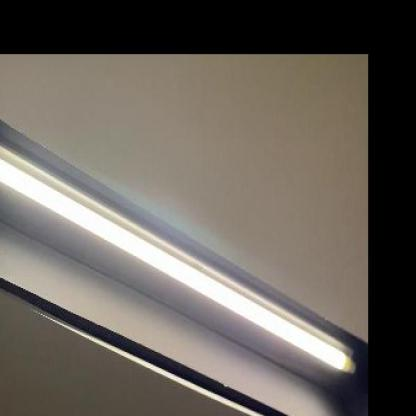light_on: (0, 122, 361, 380)
